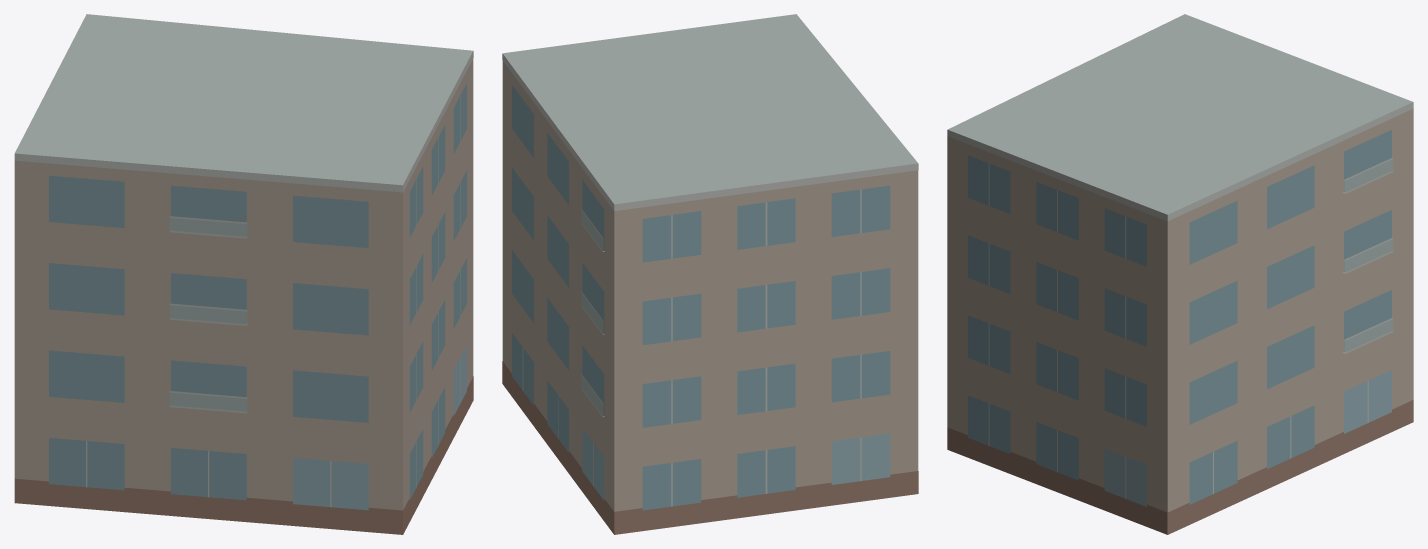
File: survey-upis-32534246.glb
3 views of the same model, side by side, from view 1: azimuth 30°, elevation 25°; view 2: azimuth 150°, elevation 25°; view 3: azimuth 270°, elevation 25° (orthographic). The views are drawn at different scales.
Parts seen in each view (by area): view 1: survey-upis-32534246.tmp; view 2: survey-upis-32534246.tmp; view 3: survey-upis-32534246.tmp.
Boxes of the visible parts, x1,y1,x2,y2 form: survey-upis-32534246.tmp: [14, 14, 473, 534]; survey-upis-32534246.tmp: [502, 14, 918, 534]; survey-upis-32534246.tmp: [947, 14, 1413, 534].
Size of the model in its own units: 16.02 by 11.9 by 15.71.
